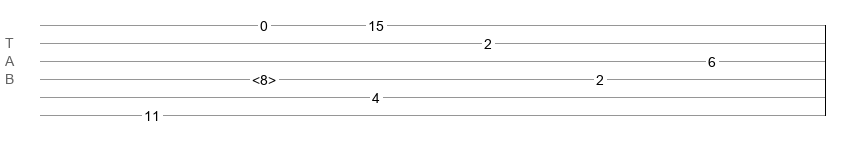0: (260, 18, 268, 28)
11: (144, 108, 160, 118)
15: (368, 18, 384, 28)
2: (484, 36, 492, 46), (596, 72, 604, 82)
4: (372, 90, 380, 100)
6: (708, 54, 716, 64)
harmonic: (252, 72, 276, 82)
